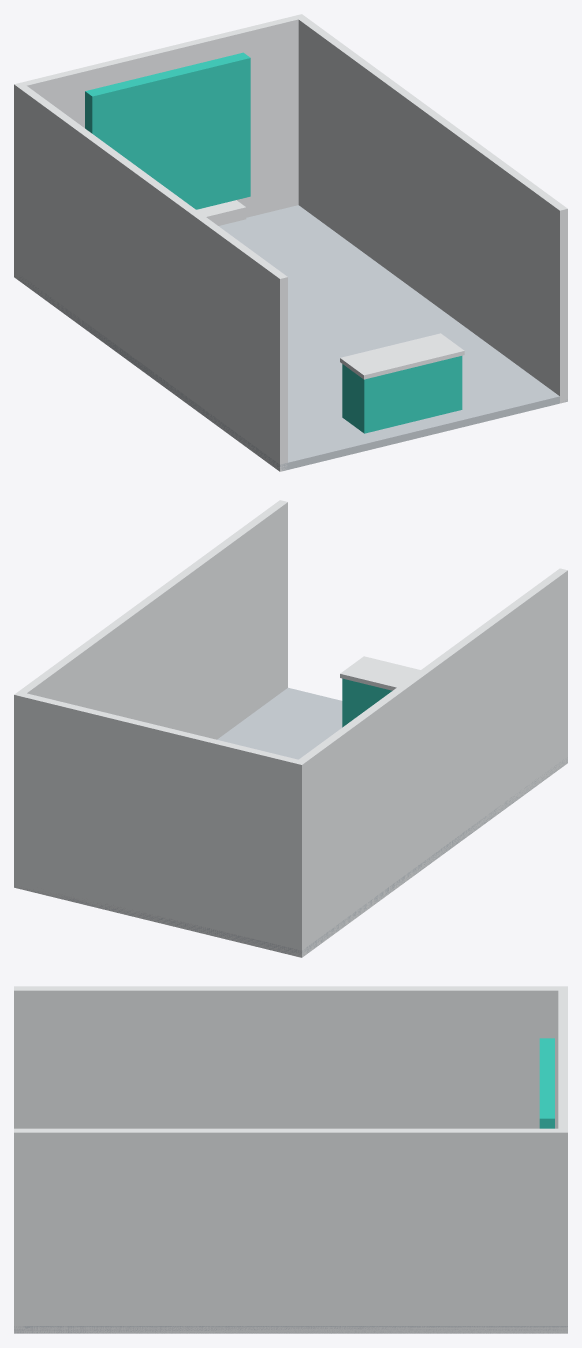
3 renders of one model, top to bottom at view 1: azimuth 30°, elevation 25°; view 2: azimuth 150°, elevation 25°; view 3: azimuth 270°, elevation 25°, orthographic. The views are drawn at different scales.
Parts seen in each view (by area): view 1: Exhibition Booth Concept; view 2: Exhibition Booth Concept; view 3: Exhibition Booth Concept.
Part boxes in pixels (bbox=[...]): Exhibition Booth Concept: bbox=[14, 14, 567, 471]; Exhibition Booth Concept: bbox=[14, 500, 567, 957]; Exhibition Booth Concept: bbox=[14, 986, 567, 1333].
Bounding box in the file's own units: 5 × 3.2 × 8.
